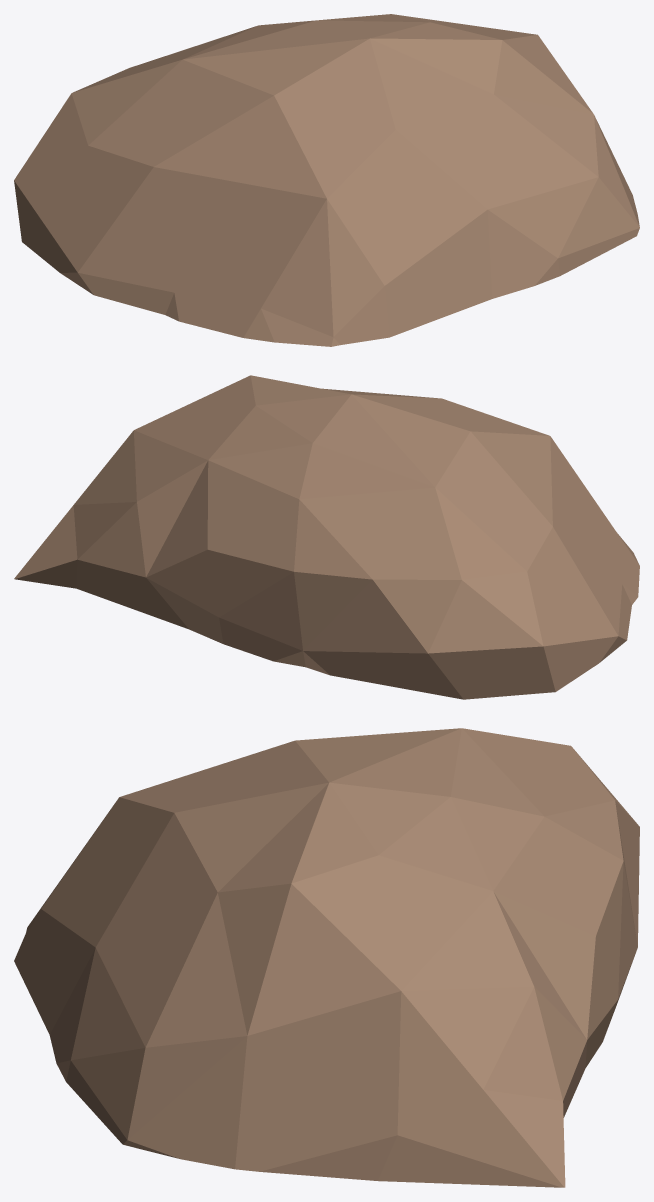
Rendered from Medium_Rocks_001.fbx.
3 views of the same model, one above another, from view 1: azimuth 30°, elevation 25°; view 2: azimuth 150°, elevation 25°; view 3: azimuth 270°, elevation 25° (orthographic). The views are drawn at different scales.
Parts seen in each view (by area): view 1: Medium Rocks.001; view 2: Medium Rocks.001; view 3: Medium Rocks.001.
Part boxes in pixels (x1,y1,x2,y2): Medium Rocks.001: (14,14,639,346); Medium Rocks.001: (14,375,639,699); Medium Rocks.001: (14,728,639,1187).
Size of the model in its own units: 33.56 by 11.1 by 25.87.
